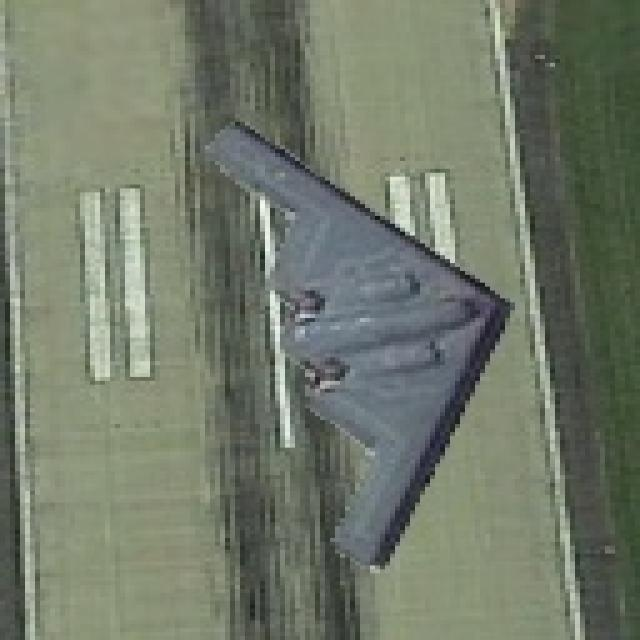B-2_TopDown: (195, 114, 515, 569)
